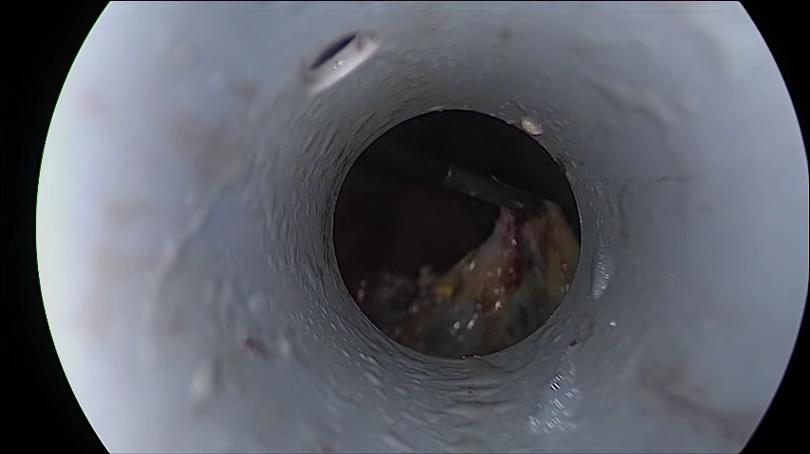Grasper: (426, 156, 567, 230)
